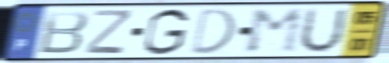B: (36, 9, 92, 56)
D: (188, 6, 239, 57)
G: (141, 7, 192, 57)
M: (244, 7, 307, 56)
U: (295, 6, 350, 56)
Z: (82, 8, 135, 56)
